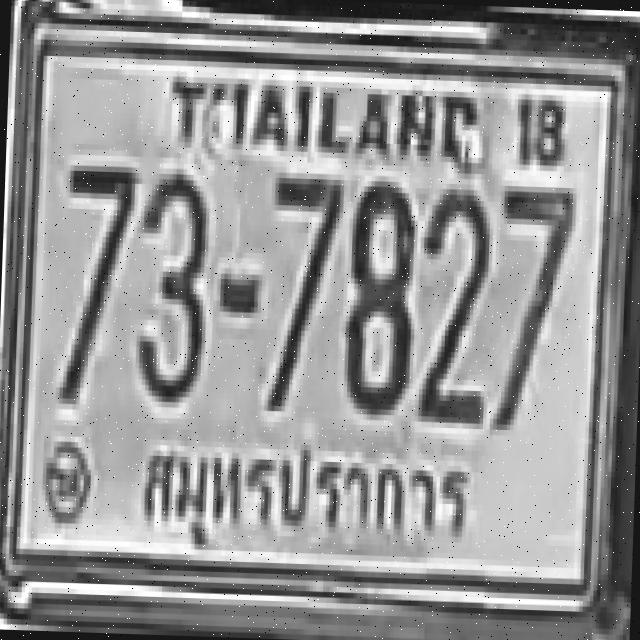2: (414, 186, 487, 420)
3: (134, 170, 207, 400)
7: (492, 180, 572, 426), (57, 159, 134, 400), (264, 172, 340, 407)
8: (340, 174, 412, 410)
SamutPrakan: (130, 422, 486, 566)
